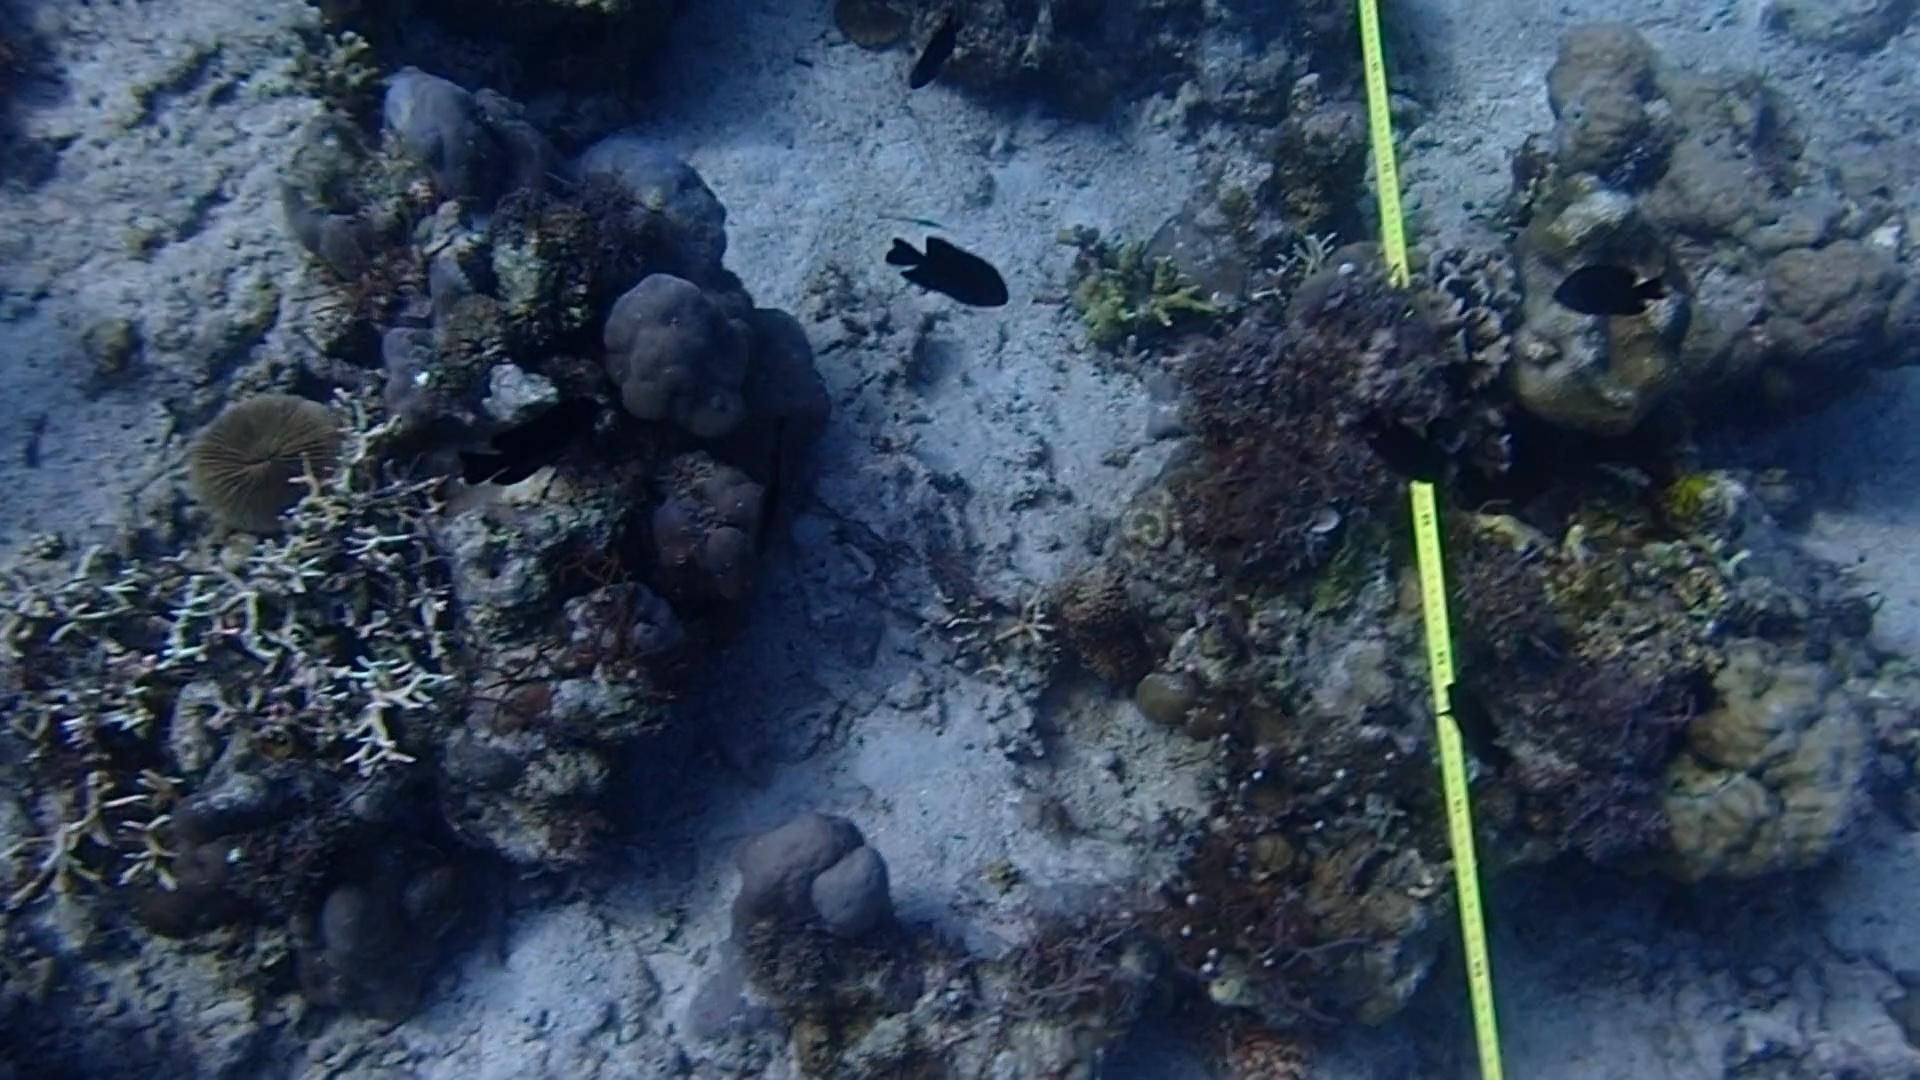Dark Fish: (465, 373, 608, 488), (870, 218, 1014, 315), (1353, 405, 1449, 505), (1557, 253, 1671, 335), (1443, 670, 1514, 789), (901, 11, 982, 98), (758, 413, 806, 538)
